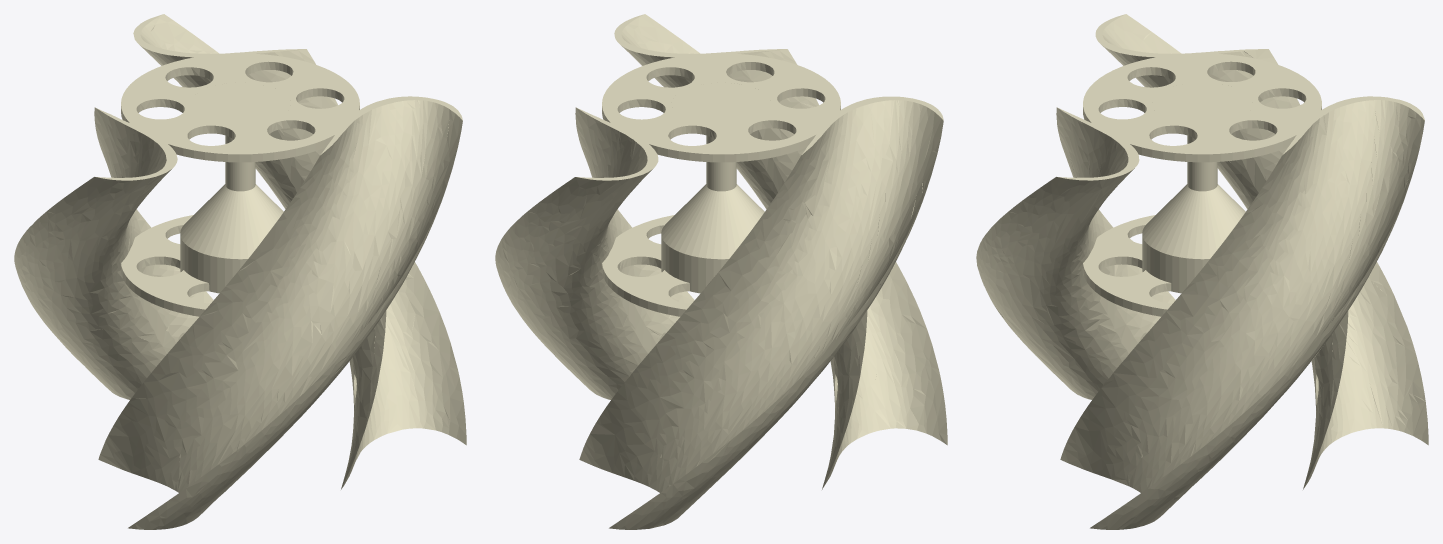
File: windmill-blade.glb
3 views of the same model, side by side, from view 1: azimuth 30°, elevation 25°; view 2: azimuth 150°, elevation 25°; view 3: azimuth 270°, elevation 25° (orthographic).
Visible parts, largest first — view 1: b528e63d-Fan3_2.stl; view 2: b528e63d-Fan3_2.stl; view 3: b528e63d-Fan3_2.stl.
Part boxes in pixels (<box>): b528e63d-Fan3_2.stl: <box>14,14,466,529</box>; b528e63d-Fan3_2.stl: <box>495,14,947,529</box>; b528e63d-Fan3_2.stl: <box>976,14,1428,529</box>.
Size of the model in its own units: 120 by 100 by 120.
